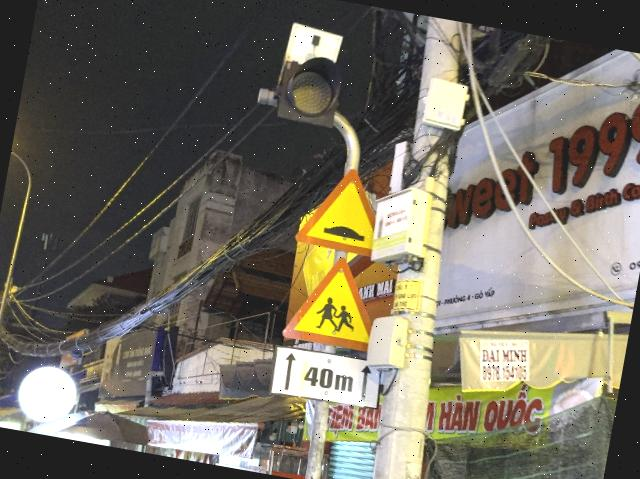duong-co-go-giam-toc: (292, 161, 386, 257)
tre-em-qua-duong: (281, 249, 382, 352)
